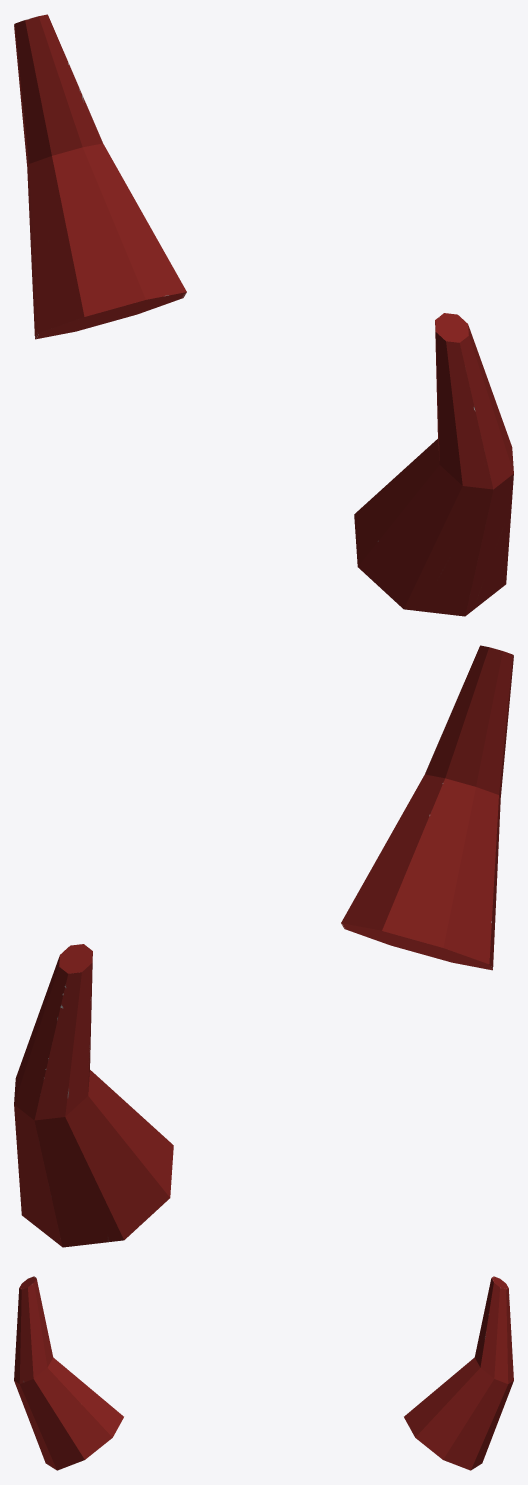
The model's file is sombreroDiablo.obj.
The picture shows the model from 3 angles, top to bottom: view 1: azimuth 30°, elevation 25°; view 2: azimuth 150°, elevation 25°; view 3: azimuth 270°, elevation 25°; orthographic projection. The views are drawn at different scales.
Visible parts, largest first — view 1: diabloCuernos; view 2: diabloCuernos; view 3: diabloCuernos.
Part boxes in pixels (box(x1,y1,x2,y2)): diabloCuernos: box(14, 14, 513, 616); diabloCuernos: box(14, 645, 513, 1247); diabloCuernos: box(14, 1276, 513, 1470).
Size of the model in its own units: 0.2868 by 0.5987 by 1.53.
Materials: 1 (1 with a texture image).
